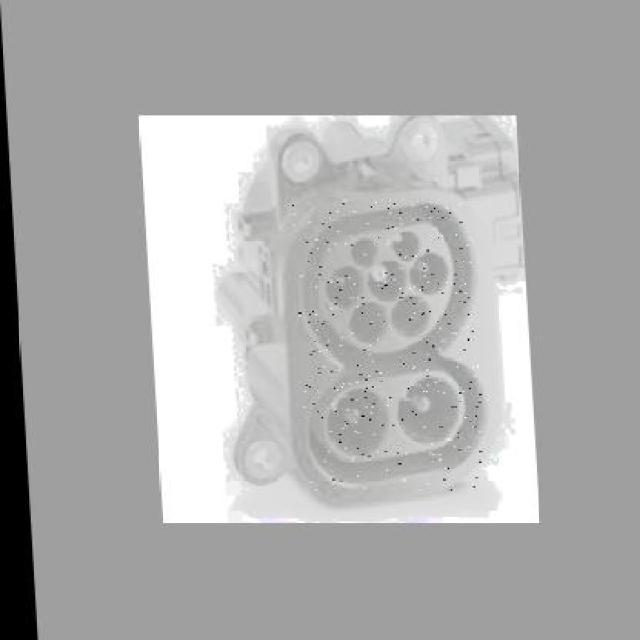CCS2: (243, 179, 501, 526)
